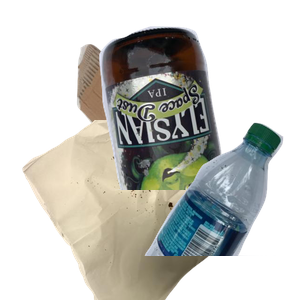cardboard: (74, 42, 225, 170)
glass: (97, 24, 300, 204)
plastic: (142, 120, 300, 300)
trash: (20, 120, 260, 300)
